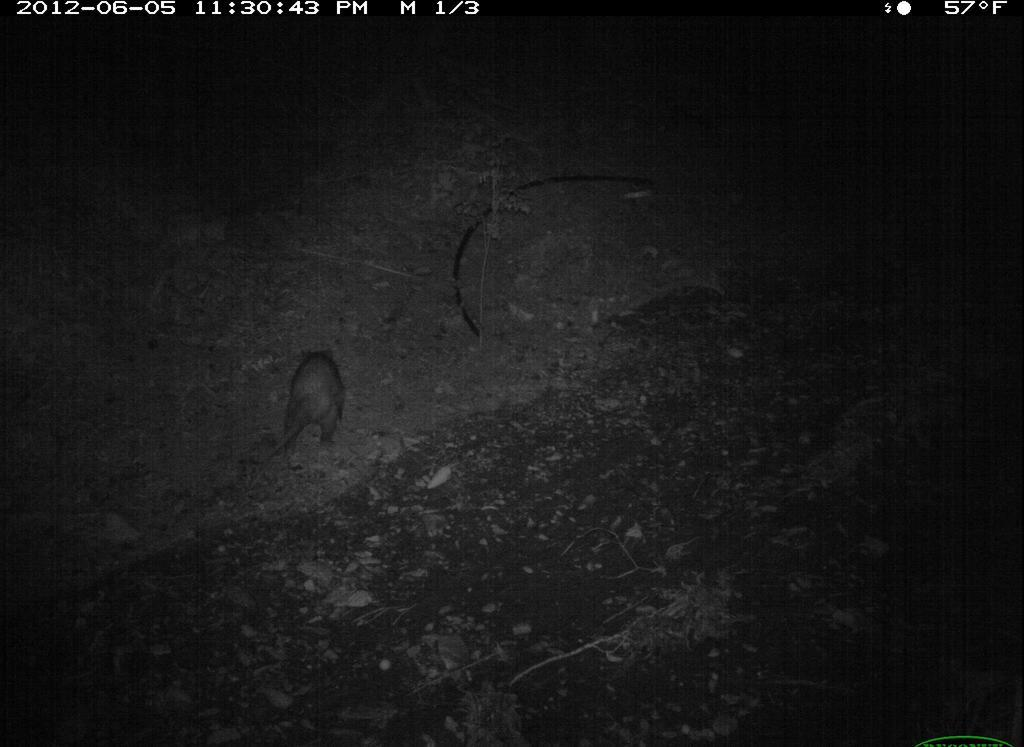opossum: (277, 340, 382, 478)
